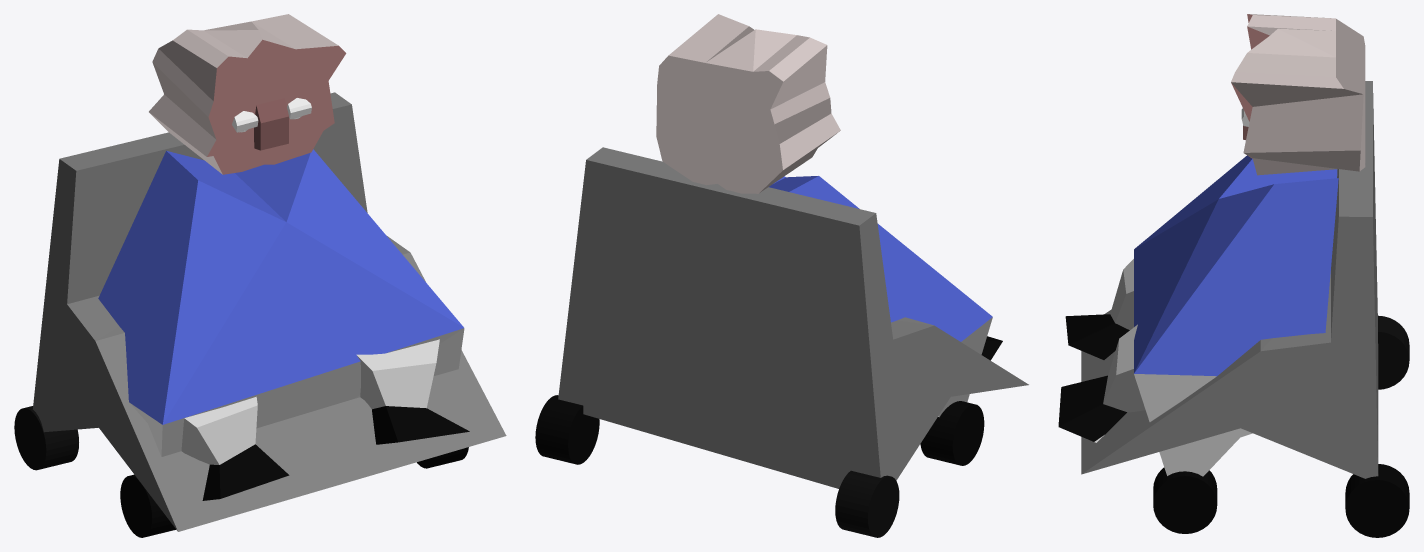
The model's file is old_hag.fbx.
3 renders of one model, left to right at view 1: azimuth 30°, elevation 25°; view 2: azimuth 150°, elevation 25°; view 3: azimuth 270°, elevation 25°, orthographic.
Parts seen in each view (by area): view 1: Cube.004, Cube.005, Cube, Cube.007, Cube.006, Cylinder.001, Cylinder.002, Cube.001; view 2: Cube.005, Cube, Cube.004, Cylinder.001, Cylinder, Cylinder.002; view 3: Cube.004, Cube.005, Cube, Cube.007, Cylinder, Cylinder.003, Cube.006, Cylinder.001.
Boxes of the visible parts, bbox=[...] form: Cube.004: bbox=[98, 149, 464, 456]; Cube.005: bbox=[33, 92, 506, 531]; Cube: bbox=[149, 14, 346, 174]; Cube.007: bbox=[356, 339, 469, 444]; Cube.006: bbox=[181, 396, 289, 500]; Cylinder.001: bbox=[14, 406, 78, 470]; Cylinder.002: bbox=[120, 474, 175, 537]; Cube.001: bbox=[254, 98, 288, 150]; Cube.005: bbox=[558, 147, 1028, 488]; Cube: bbox=[656, 14, 840, 193]; Cube.004: bbox=[769, 176, 992, 417]; Cylinder.001: bbox=[835, 470, 899, 537]; Cylinder: bbox=[535, 395, 599, 464]; Cylinder.002: bbox=[920, 401, 984, 465]; Cube.004: bbox=[1134, 155, 1338, 476]; Cube.005: bbox=[1081, 81, 1378, 478]; Cube: bbox=[1231, 14, 1365, 175]; Cube.007: bbox=[1058, 324, 1145, 442]; Cylinder: bbox=[1345, 464, 1409, 537]; Cylinder.003: bbox=[1153, 467, 1217, 533]; Cube.006: bbox=[1065, 259, 1133, 359]; Cylinder.001: bbox=[1378, 315, 1409, 389].
Size of the model in its own units: 216 by 265 by 195.
